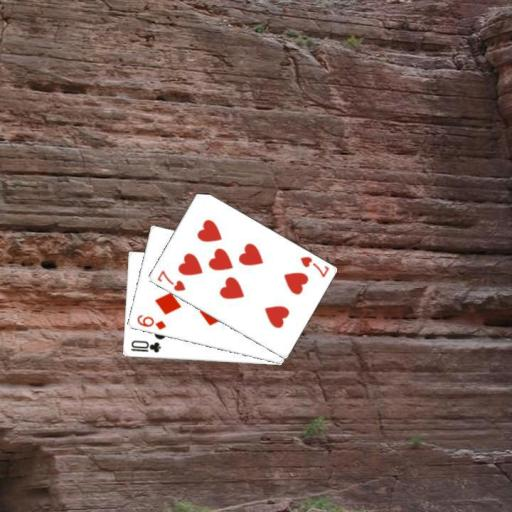10C: (127, 338, 162, 354)
6D: (134, 312, 167, 332)
7H: (297, 253, 331, 279), (154, 267, 187, 293)
